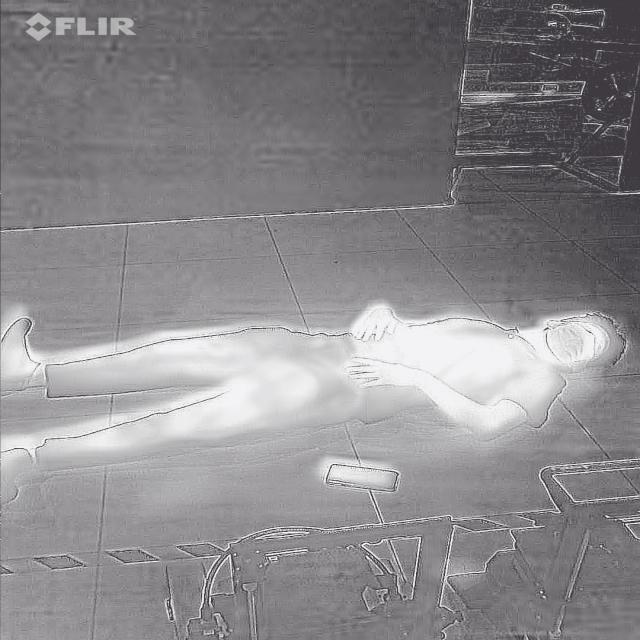Victim: (0, 299, 627, 508)
